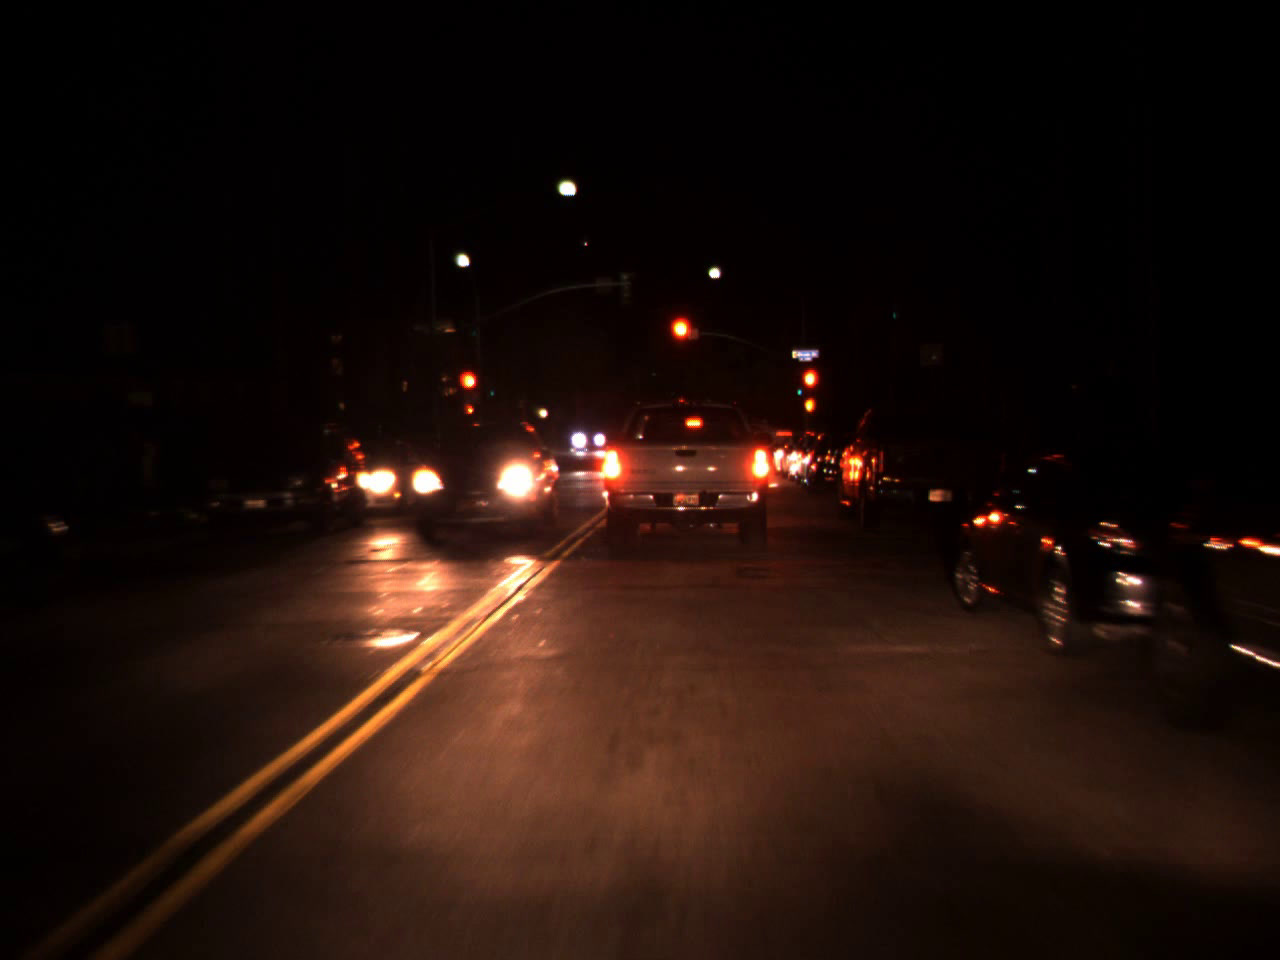stop: (667, 312, 695, 368), (456, 368, 480, 411), (800, 365, 819, 410)
